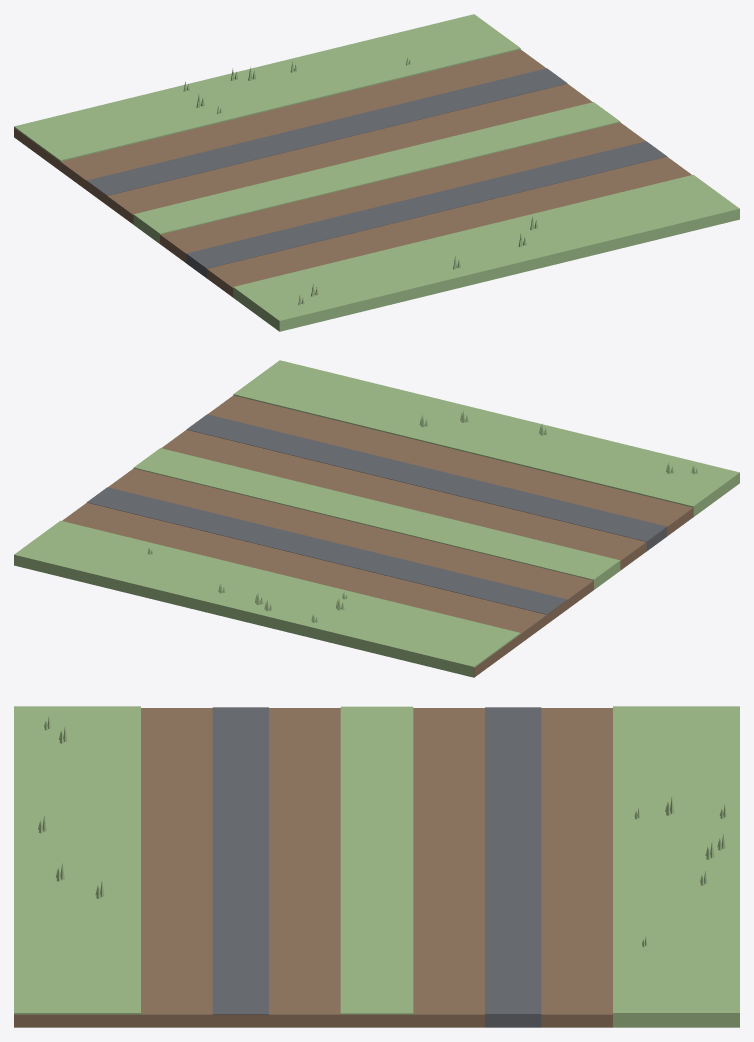
Rendered from hot-air-balloon-festival-launch-field-track-module-342b326d__38490.glb.
3 renders of one model, top to bottom at view 1: azimuth 30°, elevation 25°; view 2: azimuth 150°, elevation 25°; view 3: azimuth 270°, elevation 25°, orthographic. The views are drawn at different scales.
Parts seen in each view (by area): view 1: launch-field-track-module-grass, launch-field-track-module-leather, launch-field-track-module-charcoal; view 2: launch-field-track-module-grass, launch-field-track-module-leather, launch-field-track-module-charcoal; view 3: launch-field-track-module-grass, launch-field-track-module-leather, launch-field-track-module-charcoal.
Part boxes in pixels (box(x1,y1,x2,y2)): launch-field-track-module-grass: box(14, 14, 739, 331); launch-field-track-module-leather: box(14, 49, 691, 297); launch-field-track-module-charcoal: box(87, 68, 666, 278); launch-field-track-module-grass: box(14, 360, 739, 677); launch-field-track-module-leather: box(62, 395, 693, 677); launch-field-track-module-charcoal: box(87, 414, 667, 614); launch-field-track-module-grass: box(14, 706, 739, 1027); launch-field-track-module-leather: box(14, 708, 612, 1027); launch-field-track-module-charcoal: box(212, 707, 541, 1027).
Size of the model in its own units: 8 by 0.3868 by 8.
